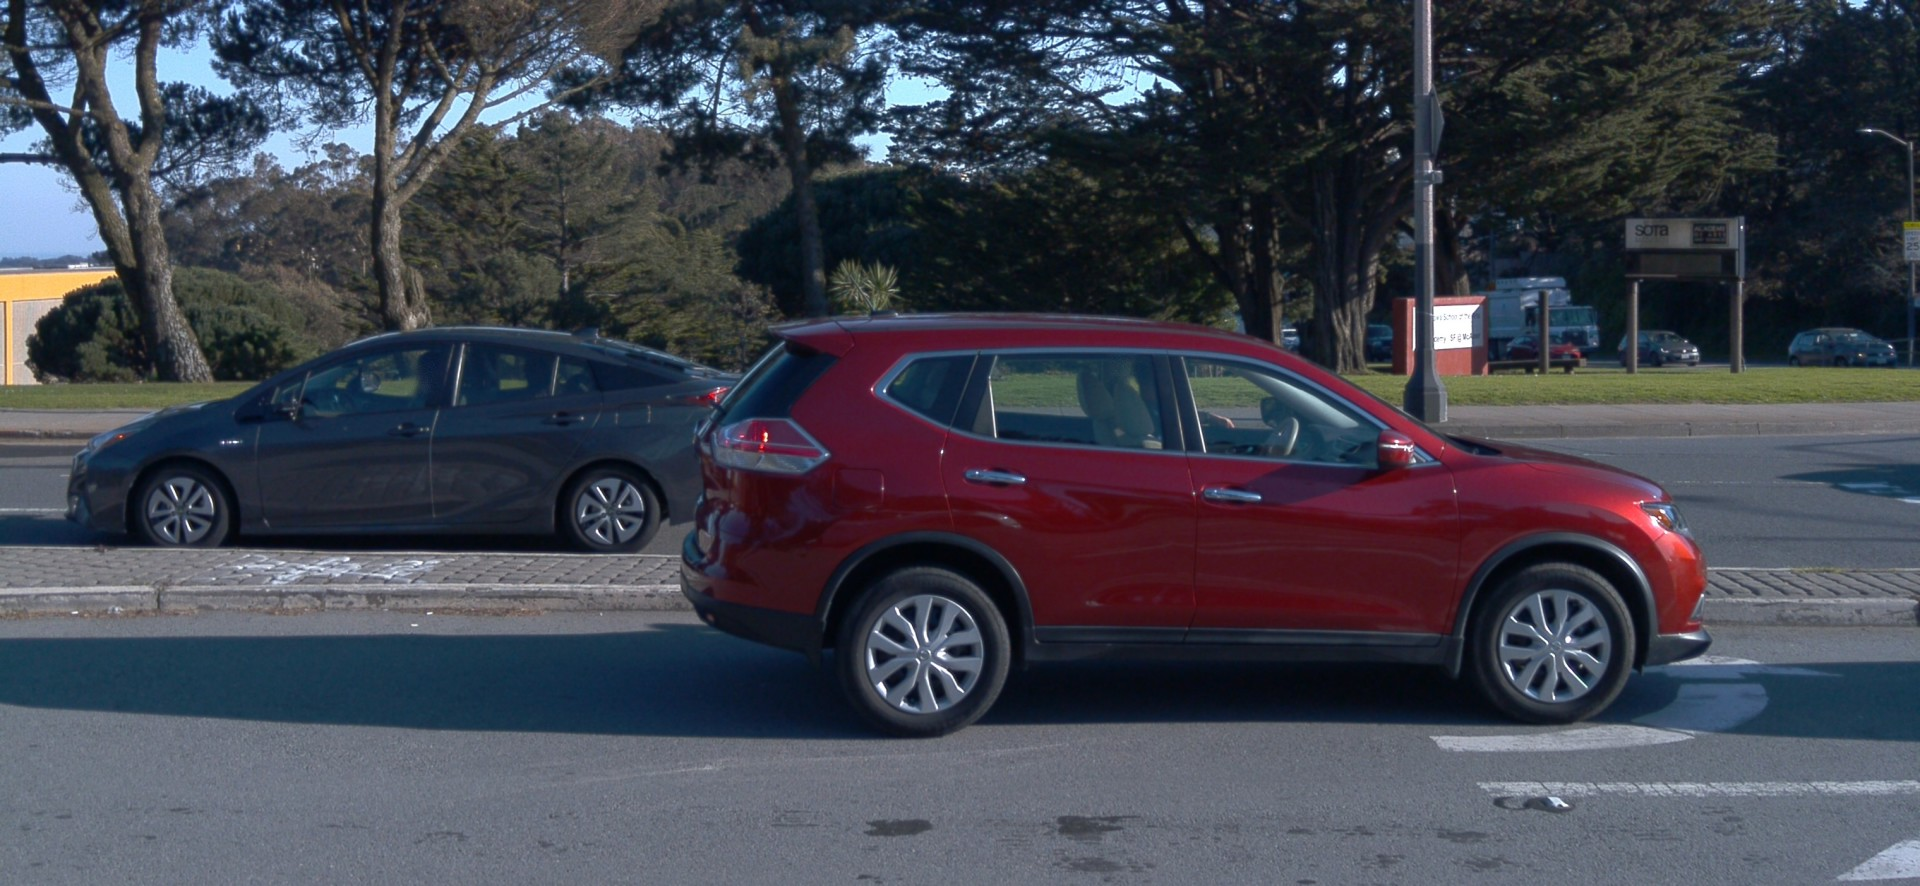TYPE_VEHICLE: (681, 305, 1721, 740), (62, 322, 751, 555), (1465, 275, 1603, 363), (1786, 328, 1899, 369), (1613, 330, 1699, 368), (1503, 331, 1583, 367), (1359, 322, 1392, 364), (1281, 330, 1302, 346)
